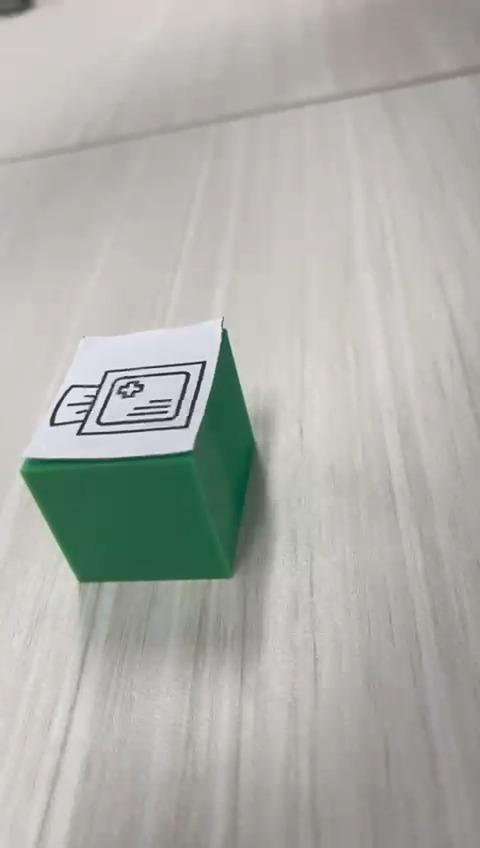Gauze: (18, 315, 257, 583)
